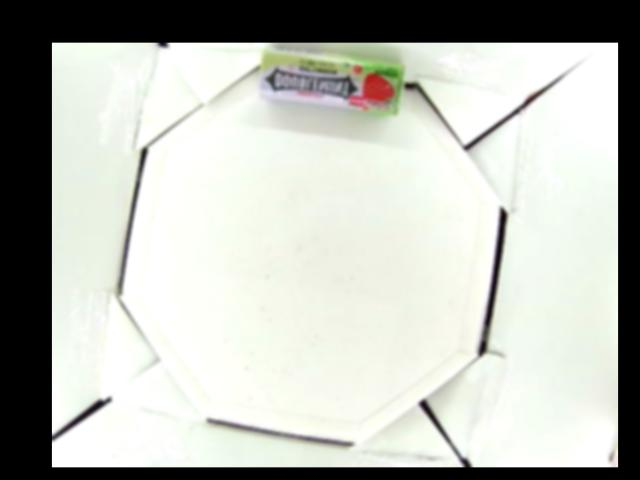Bottle: (258, 46, 403, 116)
